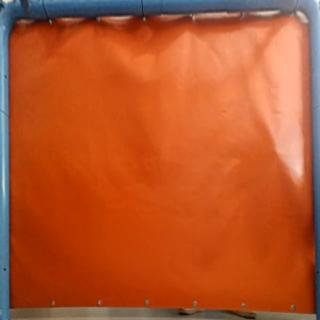Hit-hRxx: (268, 142, 284, 158)
